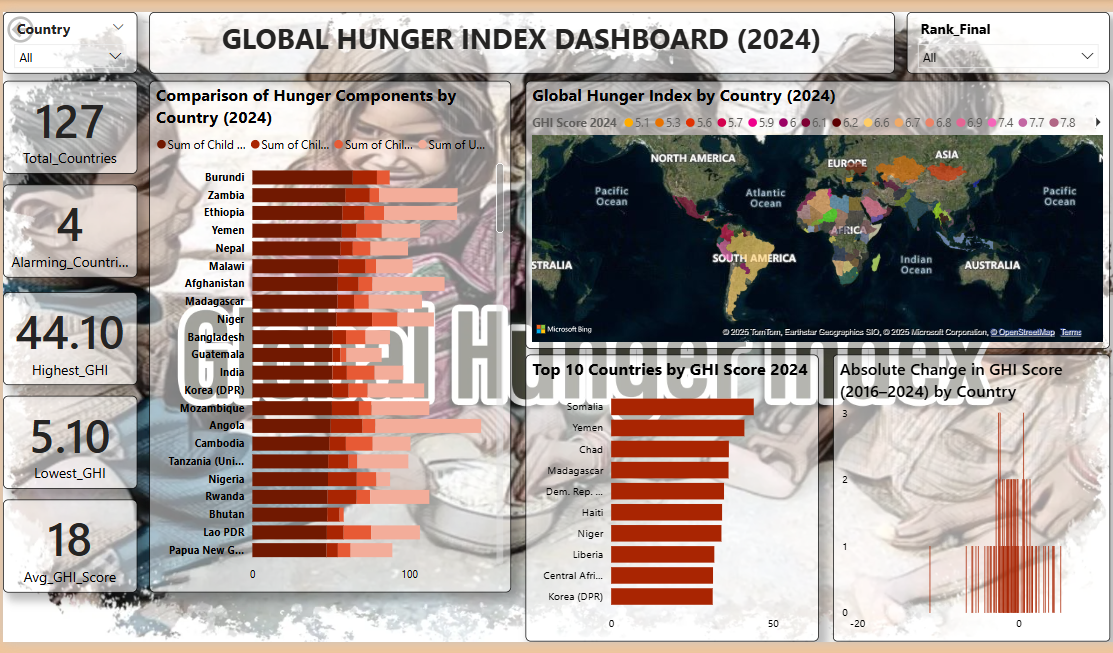

Layout of this report page (visuals, bound fields, positions):
{"tool":"powerbi","page":{"name":"Page 1","canvas":[1280,720],"ordinal":0},"visuals":[{"type":"card","fields":{"Values":["2024 GHI Scores.Lowest_GHI"]},"box":[12.9,438.6,140,107.1],"z":0},{"type":"card","fields":{"Values":["2024 GHI Scores.Avg_GHI_Score"]},"box":[12.9,555.7,141.4,100],"z":1000},{"type":"card","fields":{"Values":["2024 GHI Scores.Alarming_Countries"]},"box":[12.9,197.1,140,105.7],"z":2000},{"type":"hundredPercentStackedBarChart","title":"Comparison of Hunger Components by Country (2024)","fields":{"Category":["2024 GHI Indicator Values.Country"],"Y":["Sum(2024 GHI Indicator Values.Child stunting (% of children <5 years old))","Sum(2024 GHI Indicator Values.Child mortality (% of children <5 years old))","Sum(2024 GHI Indicator Values.Child wasting (% of children <5 years old))","Sum(2024 GHI Indicator Values.Undernourishment(% of population))"]},"box":[166.2,78.8,417.5,576.2],"z":3000},{"type":"card","fields":{"Values":["2024 GHI Indicator Values.Total_Countries"]},"box":[12.9,78.6,141.4,107.1],"z":4000},{"type":"actionButton","box":[0,0,100,40],"z":5000},{"type":"filledMap","title":"Global Hunger Index by Country (2024)","fields":{"Category":["2024 GHI Scores.Country"],"Series":["2024 GHI Scores.GHI Score 2024"]},"box":[595.7,78.6,498.6,307.1],"z":6000},{"type":"clusteredBarChart","title":"Top 10 Countries by GHI Score 2024","fields":{"Category":["2024 GHI Scores.Country"],"Y":["Sum(2024 GHI Scores.GHI Score 2024)"]},"box":[596.7,391.7,335,328.3],"z":7000},{"type":"slicer","fields":{"Values":["2024 GHI Indicator Values.Country"]},"box":[12.9,0,140,70],"z":8000},{"type":"card","fields":{"Values":["2024 GHI Scores.Highest_GHI"]},"box":[12.9,320,141.4,105.7],"z":9000},{"type":"clusteredColumnChart","title":"Absolute Change in GHI Score (2016–2024) by Country","fields":{"Category":["2024 GHI Scores.Absolute Change in GHI (2016–2024)"],"Y":["CountNonNull(2024 GHI Scores.Country)"]},"box":[941.4,391.4,328.6,328.6],"z":10000},{"type":"textbox","box":[167.1,0,851.4,70],"z":11000},{"type":"slicer","fields":{"Values":["GHI Ranking 2024.Rank_Final"]},"box":[1034.3,0,235.7,70],"z":12000},{"type":"textbox","box":[1105.7,82.9,164.3,302.9],"z":13000},{"type":"textbox","box":[12.9,664.3,571.4,55.7],"z":14000}]}

Visuals, with their boxes on the page's 1280x720 design canvas (x1, y1, x2, y2). These are canvas units, not pixel positions in the 1113x653 screenshot, which may show the page scaled, cropped or inside an application window:
card - 2024 GHI Scores.Lowest_GHI: {"left": 13, "top": 439, "right": 153, "bottom": 546}
card - 2024 GHI Scores.Avg_GHI_Score: {"left": 13, "top": 556, "right": 154, "bottom": 656}
card - 2024 GHI Scores.Alarming_Countries: {"left": 13, "top": 197, "right": 153, "bottom": 303}
"Comparison of Hunger Components by Country (2024)" hundredPercentStackedBarChart: {"left": 166, "top": 79, "right": 584, "bottom": 655}
card - 2024 GHI Indicator Values.Total_Countries: {"left": 13, "top": 79, "right": 154, "bottom": 186}
actionButton: {"left": 0, "top": 0, "right": 100, "bottom": 40}
"Global Hunger Index by Country (2024)" filledMap: {"left": 596, "top": 79, "right": 1094, "bottom": 386}
"Top 10 Countries by GHI Score 2024" clusteredBarChart: {"left": 597, "top": 392, "right": 932, "bottom": 720}
slicer - 2024 GHI Indicator Values.Country: {"left": 13, "top": 0, "right": 153, "bottom": 70}
card - 2024 GHI Scores.Highest_GHI: {"left": 13, "top": 320, "right": 154, "bottom": 426}
"Absolute Change in GHI Score (2016–2024) by Country" clusteredColumnChart: {"left": 941, "top": 391, "right": 1270, "bottom": 720}
textbox: {"left": 167, "top": 0, "right": 1018, "bottom": 70}
slicer - GHI Ranking 2024.Rank_Final: {"left": 1034, "top": 0, "right": 1270, "bottom": 70}
textbox: {"left": 1106, "top": 83, "right": 1270, "bottom": 386}
textbox: {"left": 13, "top": 664, "right": 584, "bottom": 720}
